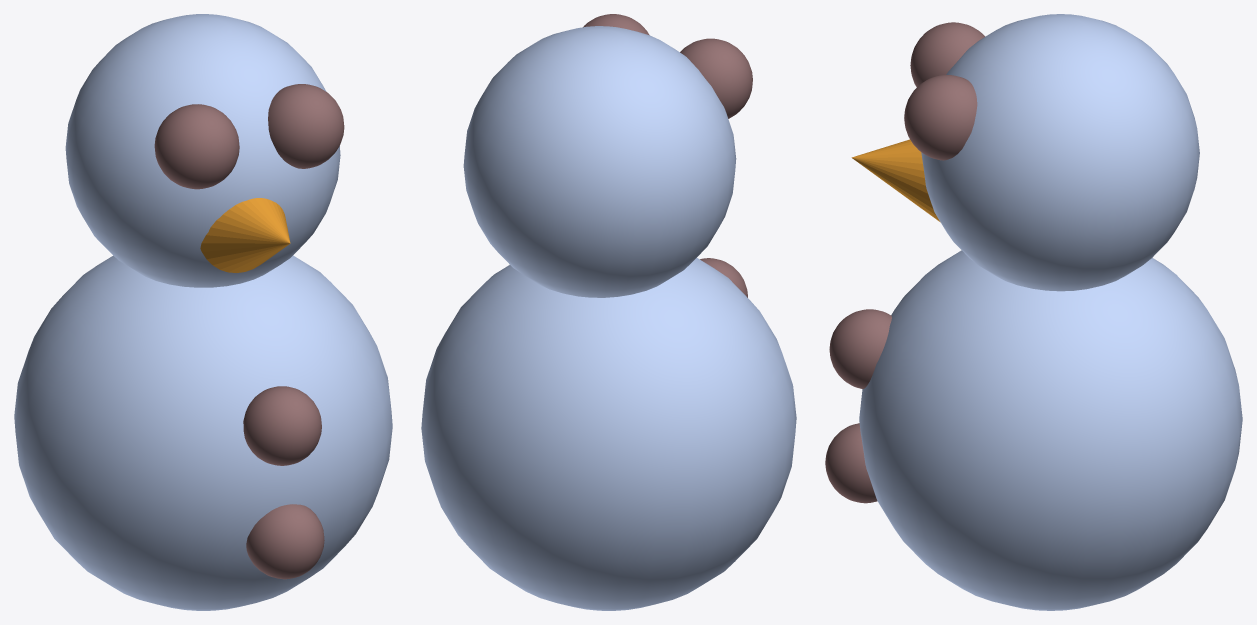
File: snowman.fbx
3 renders of one model, left to right at view 1: azimuth 30°, elevation 25°; view 2: azimuth 150°, elevation 25°; view 3: azimuth 270°, elevation 25°, orthographic.
Visible parts, largest first — view 1: 球, 球.001, 球.004, 球.005, 球.002, 円錐, 球.003; view 2: 球, 球.001, 球.004, 球.005, 球.002; view 3: 球, 球.001, 球.005, 球.002, 円錐, 球.004, 球.003.
Part boxes in pixels (x1,y1,x2,y2): 球: [14, 255, 392, 610]; 球.001: [65, 14, 340, 287]; 球.004: [154, 104, 239, 189]; 球.005: [268, 84, 344, 168]; 球.002: [243, 386, 321, 465]; 円錐: [200, 198, 290, 272]; 球.003: [246, 504, 324, 579]; 球: [421, 258, 796, 610]; 球.001: [463, 26, 736, 297]; 球.004: [680, 38, 752, 118]; 球.005: [583, 14, 649, 35]; 球.002: [700, 258, 747, 297]; 球: [859, 250, 1242, 610]; 球.001: [921, 14, 1199, 291]; 球.005: [904, 75, 977, 160]; 球.002: [829, 309, 891, 388]; 円錐: [851, 139, 940, 222]; 球.004: [910, 22, 984, 87]; 球.003: [825, 423, 877, 503].
Bounding box in the file's own units: 477 × 780 × 519.
